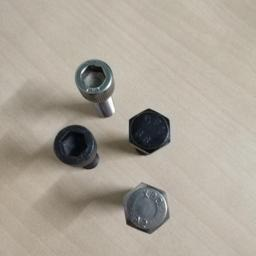screwtype1black: (52, 124, 101, 171)
screwtype1silver: (71, 59, 117, 116)
screwtype2black: (125, 106, 174, 159)
screwtype2silver: (120, 181, 173, 236)
